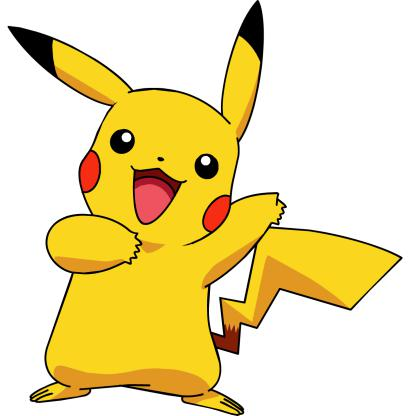Pikachu: (1, 3, 403, 416)
